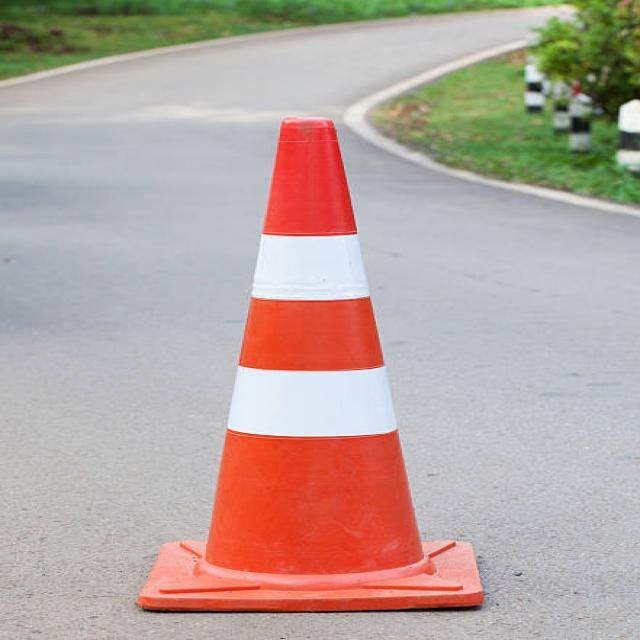Traffic Cone: (77, 92, 566, 640)
